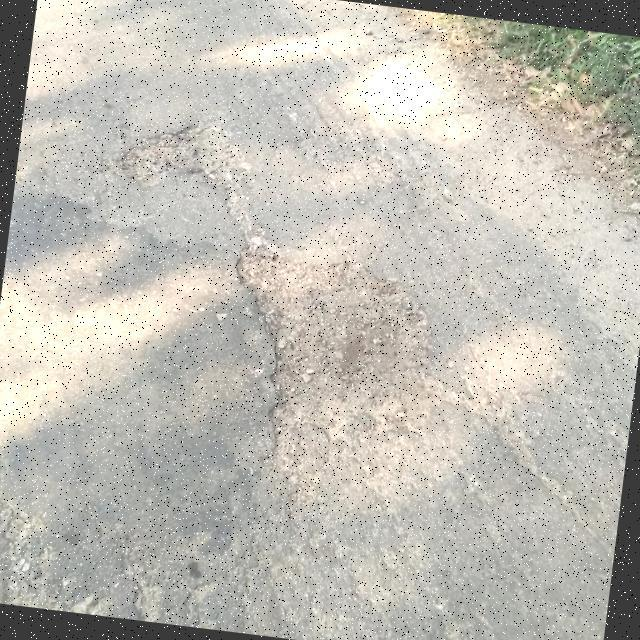Pothole: (121, 124, 445, 470)
